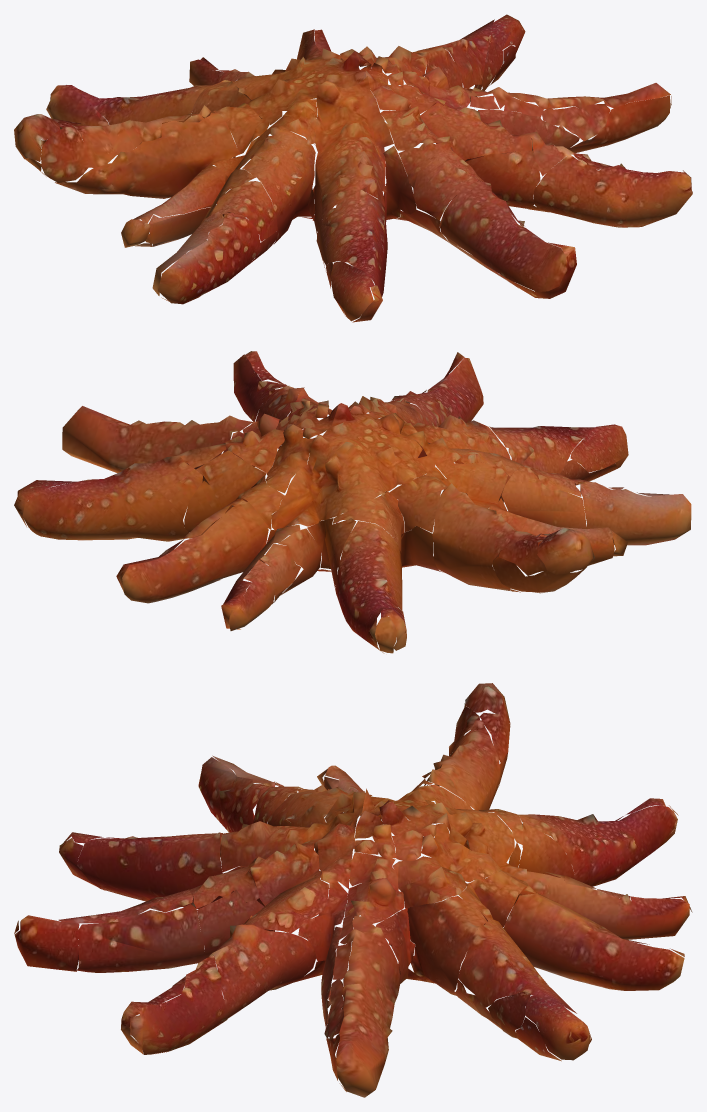
Rendered from star_big_sunflower.glb.
3 views of the same model, one above another, from view 1: azimuth 30°, elevation 25°; view 2: azimuth 150°, elevation 25°; view 3: azimuth 270°, elevation 25° (orthographic). The views are drawn at different scales.
Parts seen in each view (by area): view 1: tripo_node_631b7e7a-84b0-4f78-ab16-8d2ae673efd1; view 2: tripo_node_631b7e7a-84b0-4f78-ab16-8d2ae673efd1; view 3: tripo_node_631b7e7a-84b0-4f78-ab16-8d2ae673efd1.
Part boxes in pixels (x1,y1,x2,y2): tripo_node_631b7e7a-84b0-4f78-ab16-8d2ae673efd1: [14, 14, 692, 322]; tripo_node_631b7e7a-84b0-4f78-ab16-8d2ae673efd1: [14, 351, 691, 653]; tripo_node_631b7e7a-84b0-4f78-ab16-8d2ae673efd1: [14, 683, 692, 1097].
Size of the model in its own units: 1 by 0.2277 by 0.9104.
Materials: 1 (1 with a texture image).
